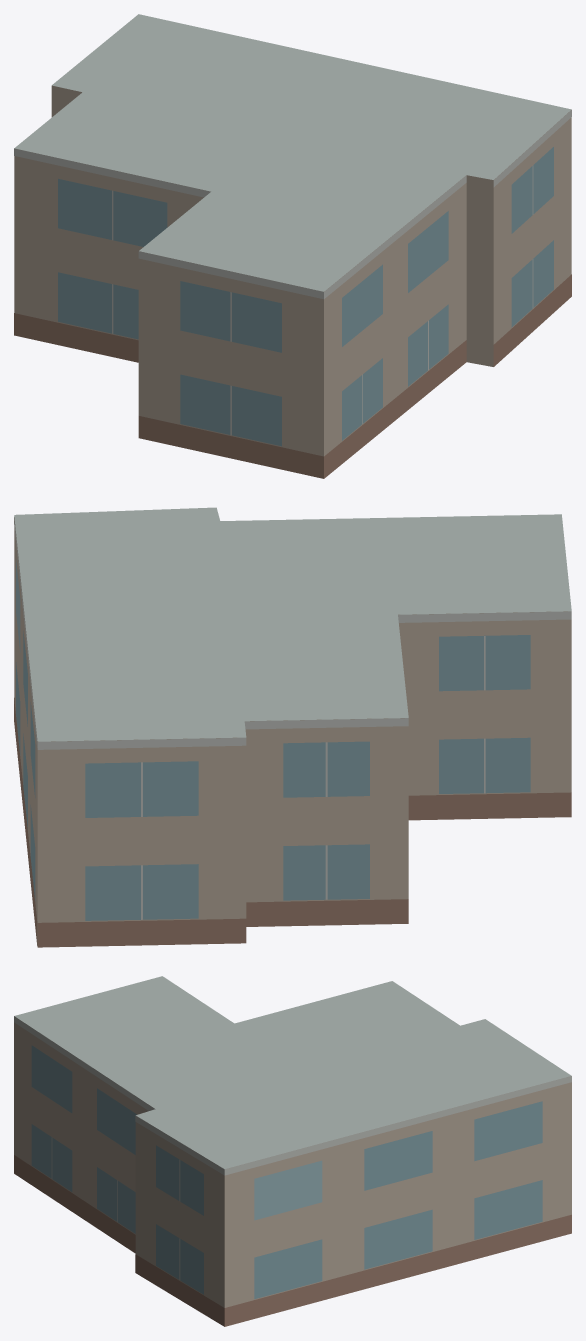
File: survey-upis-32625526.glb
3 renders of one model, top to bottom at view 1: azimuth 30°, elevation 25°; view 2: azimuth 150°, elevation 25°; view 3: azimuth 270°, elevation 25°, orthographic. The views are drawn at different scales.
Parts seen in each view (by area): view 1: survey-upis-32625526.tmp; view 2: survey-upis-32625526.tmp; view 3: survey-upis-32625526.tmp.
Part boxes in pixels (x1,y1,x2,y2): survey-upis-32625526.tmp: (14, 14, 571, 478); survey-upis-32625526.tmp: (14, 507, 571, 947); survey-upis-32625526.tmp: (14, 976, 571, 1326).
Size of the model in its own units: 16.05 by 6.1 by 19.58.
